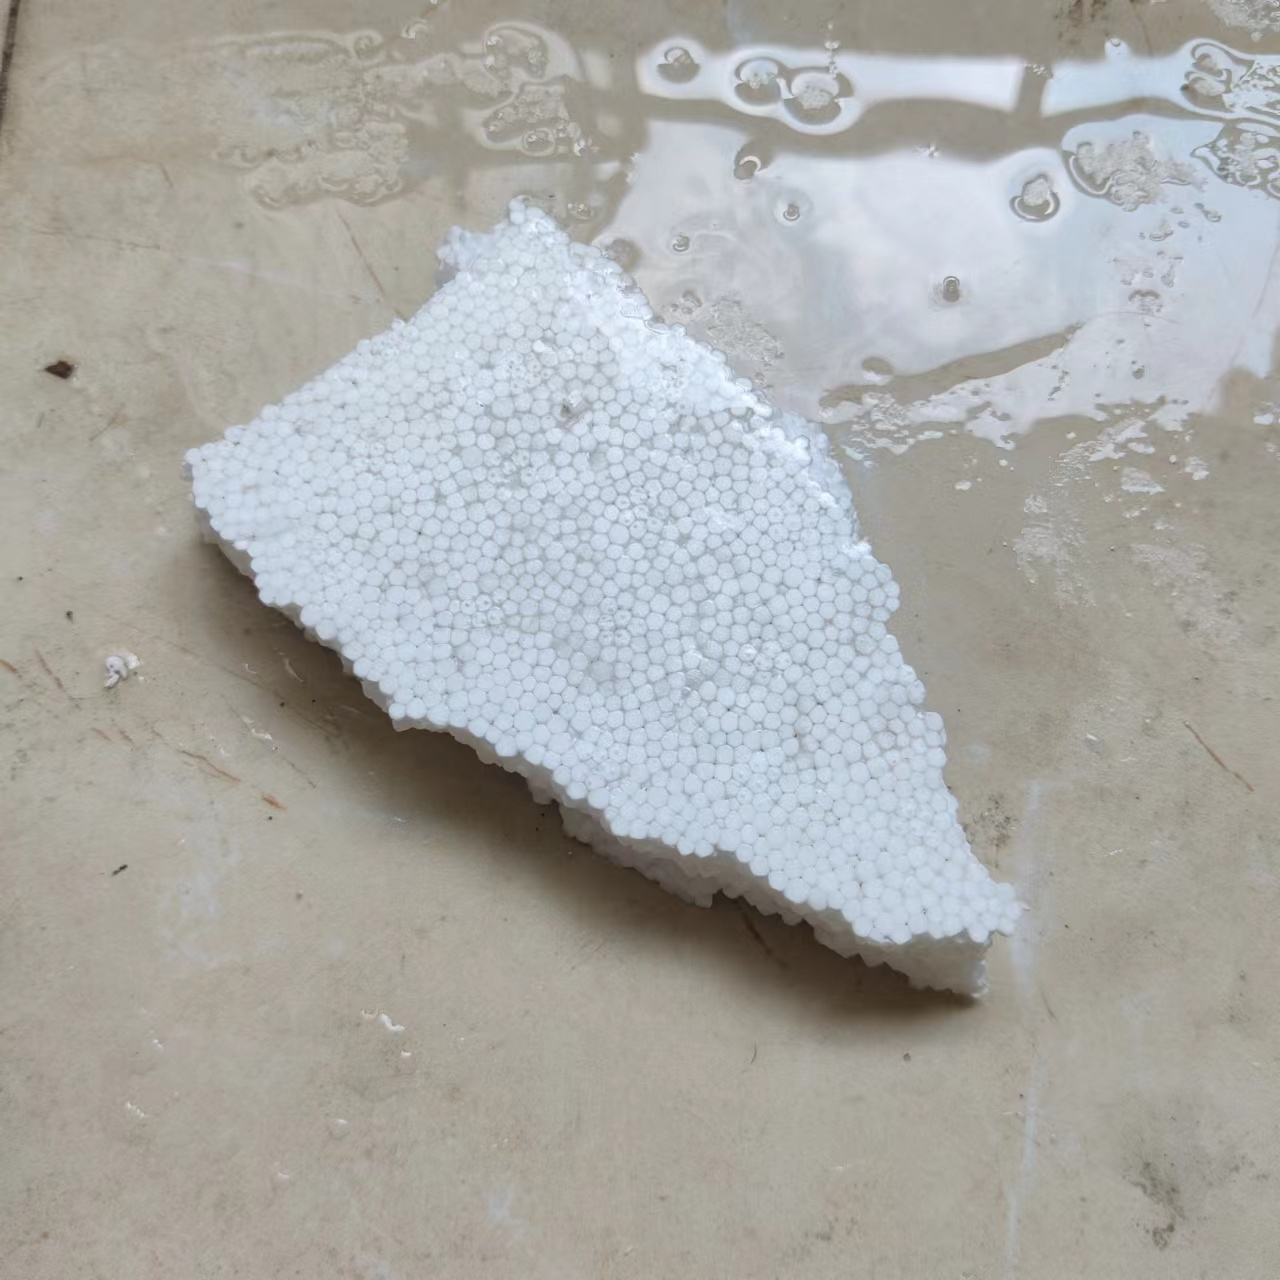5/可回收垃圾/泡沫: (183, 195, 1017, 1001)
